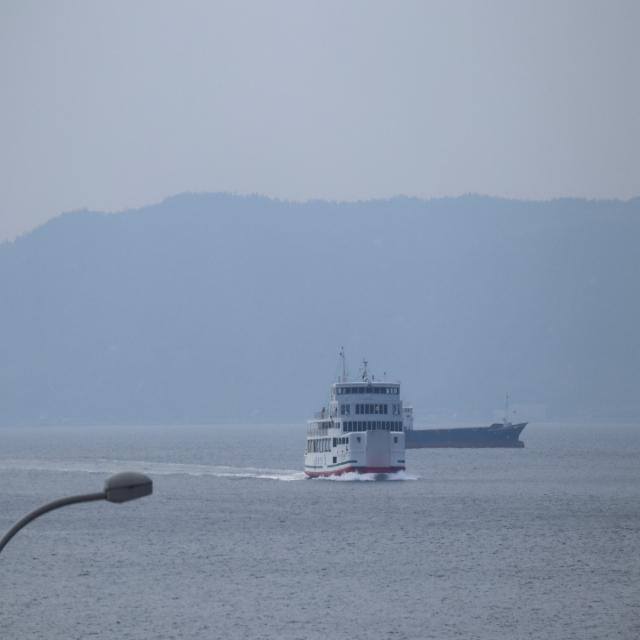cargoship: (389, 386, 538, 450)
passenger ship: (275, 356, 409, 503)
